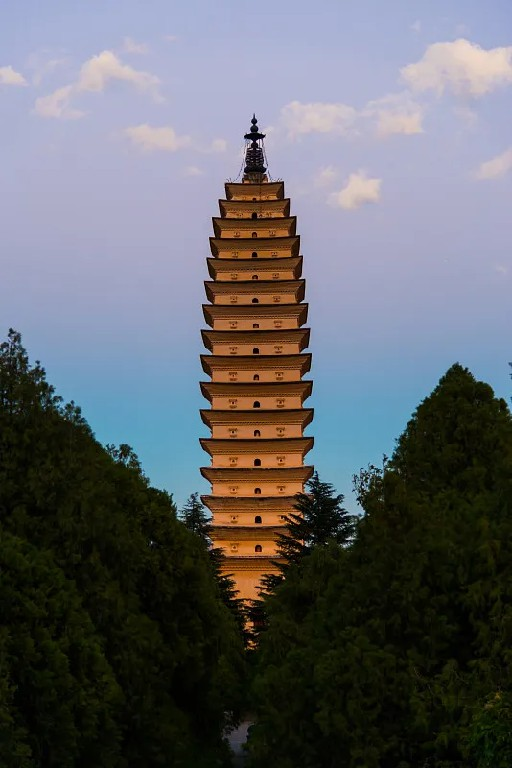ThreePagoda: (200, 114, 314, 607)
